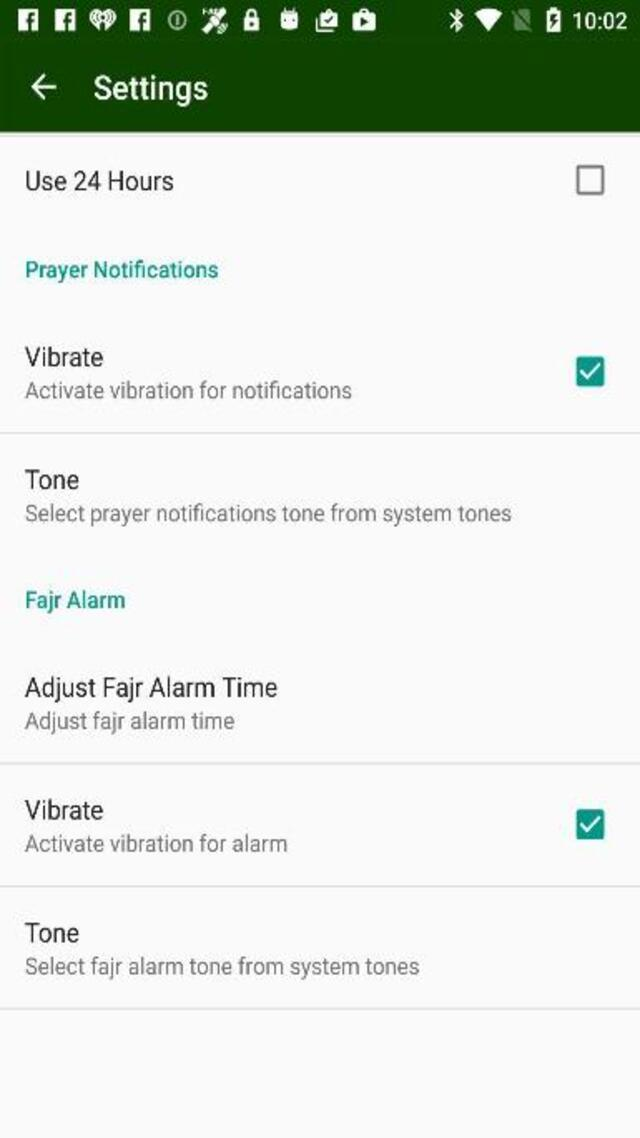CheckedTextView: (576, 808, 604, 838), (576, 356, 604, 386), (576, 164, 604, 194)
Icon: (29, 74, 56, 100)
Text: (25, 502, 510, 526), (27, 956, 419, 979), (26, 674, 277, 702), (25, 380, 351, 398), (25, 710, 234, 734), (26, 834, 287, 852), (26, 259, 217, 282), (95, 74, 208, 106), (26, 172, 172, 191), (26, 590, 124, 612), (26, 799, 104, 820), (26, 345, 104, 366), (26, 921, 80, 942), (25, 470, 78, 490)
